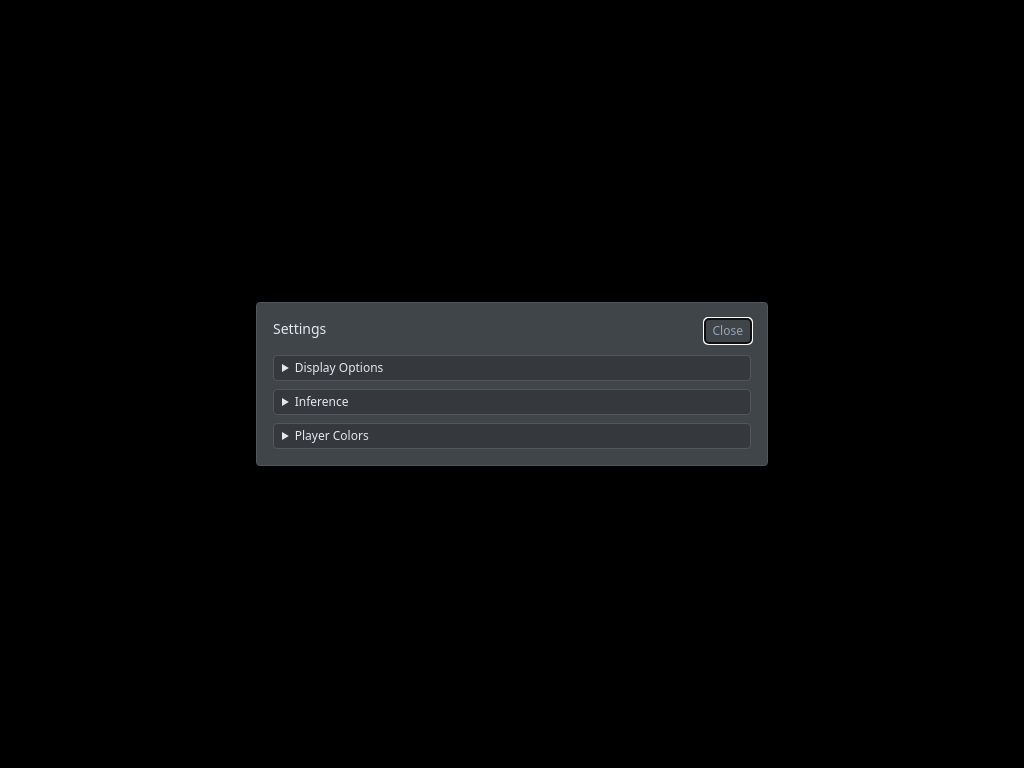
Test: SettingsModal player colors › shows empty state for per-player mode when no game is loaded
Click the heading "Player Colors": [332, 436] box 295,427 -> 369,444
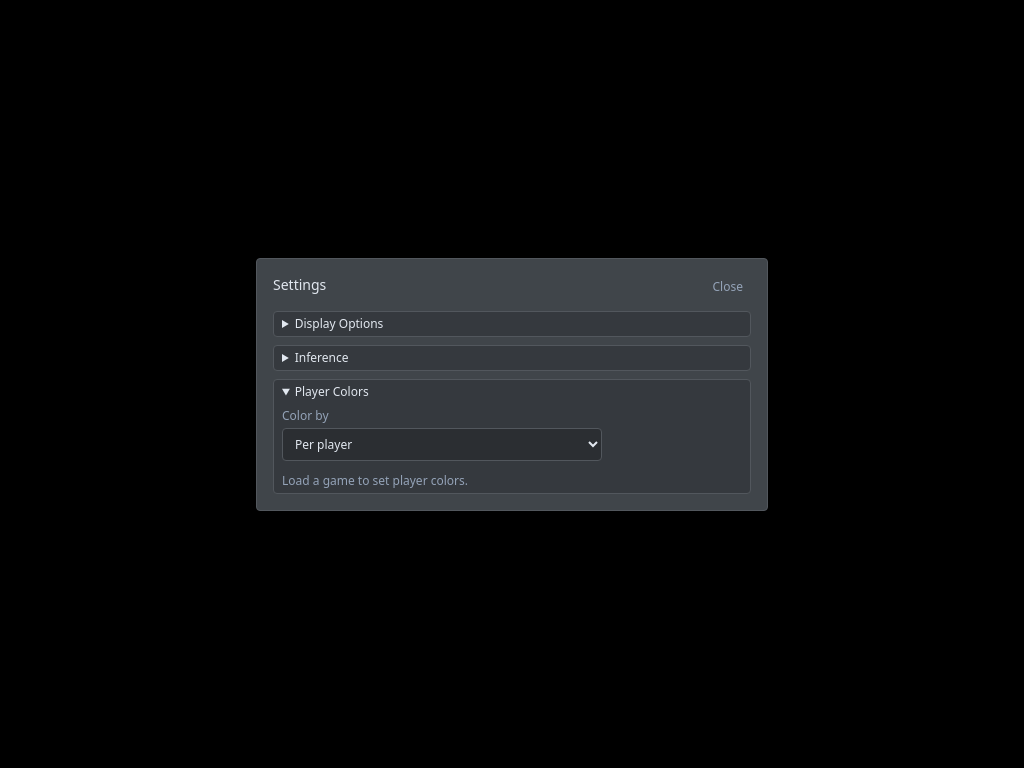
Expected: the text "Load a game to set player colors." is shown, 282,472 -> 468,488
